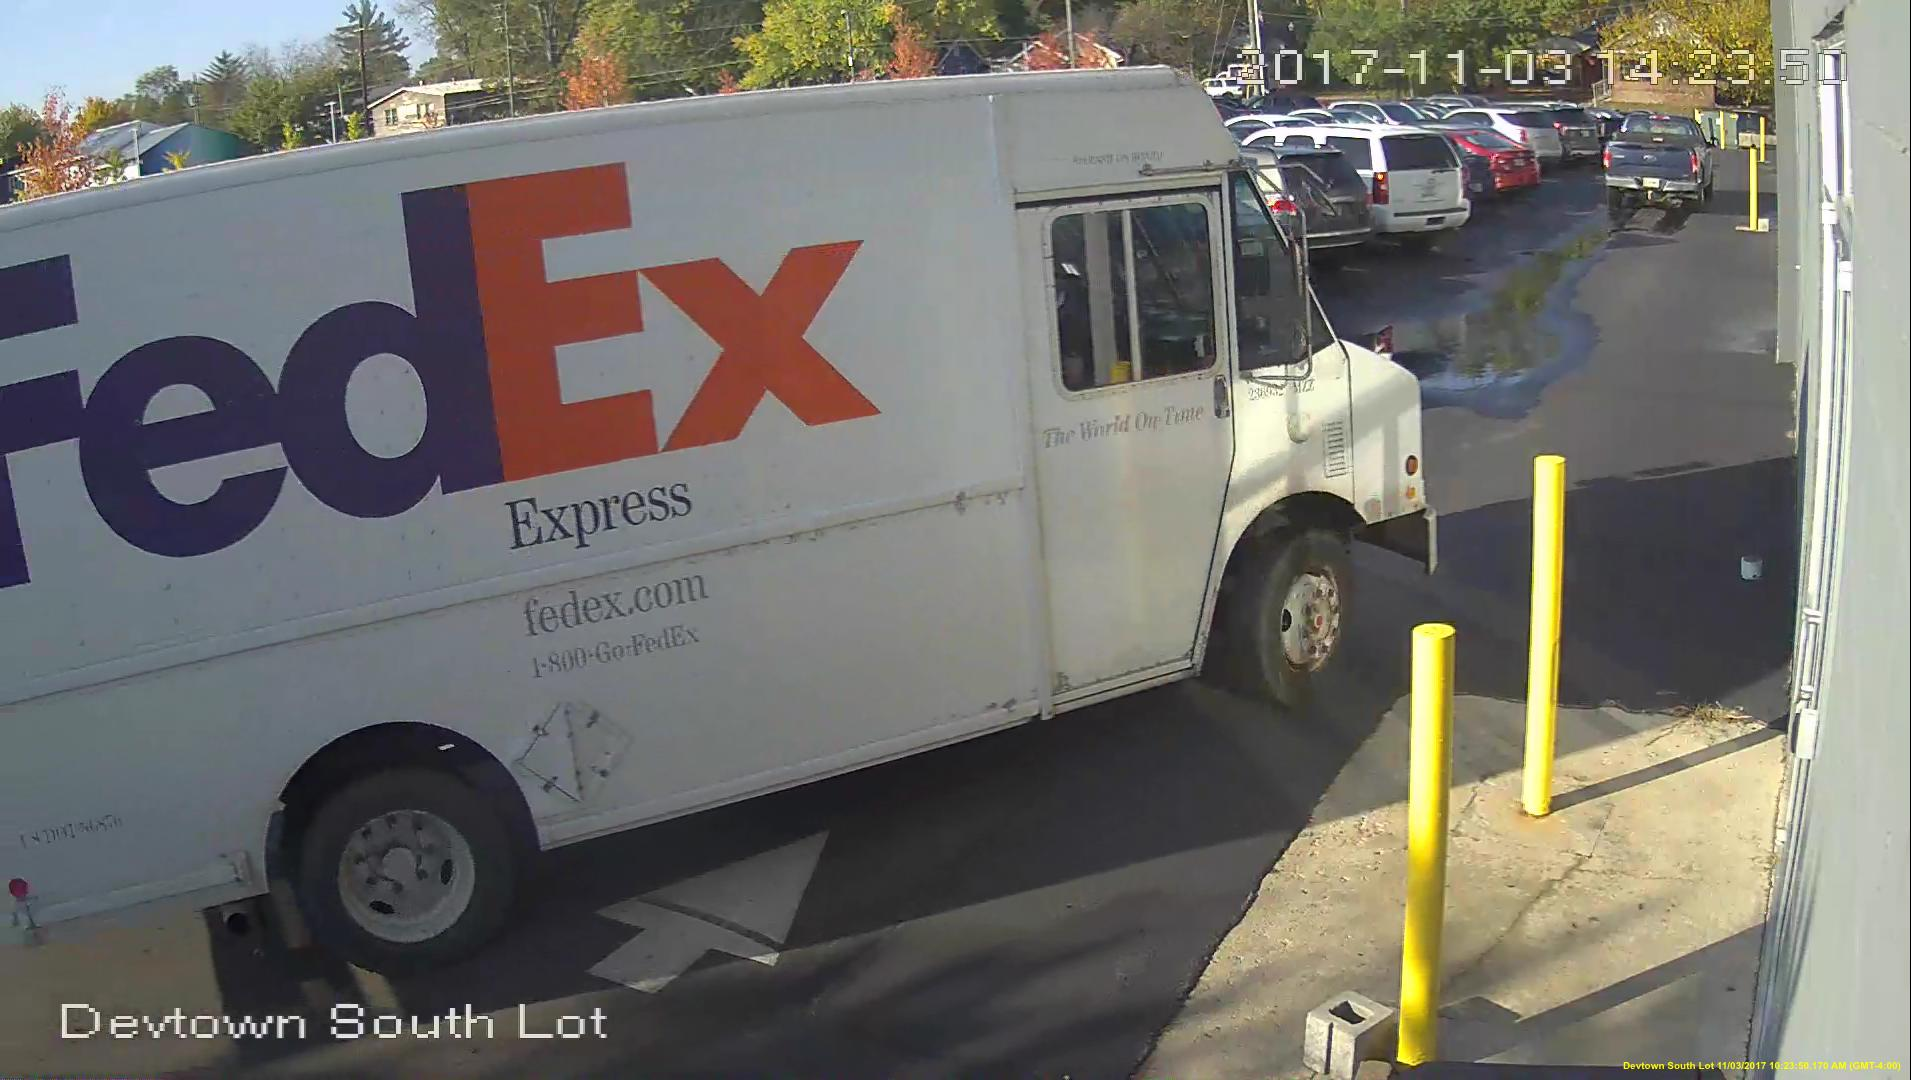fedex_truck: (7, 56, 1435, 961)
